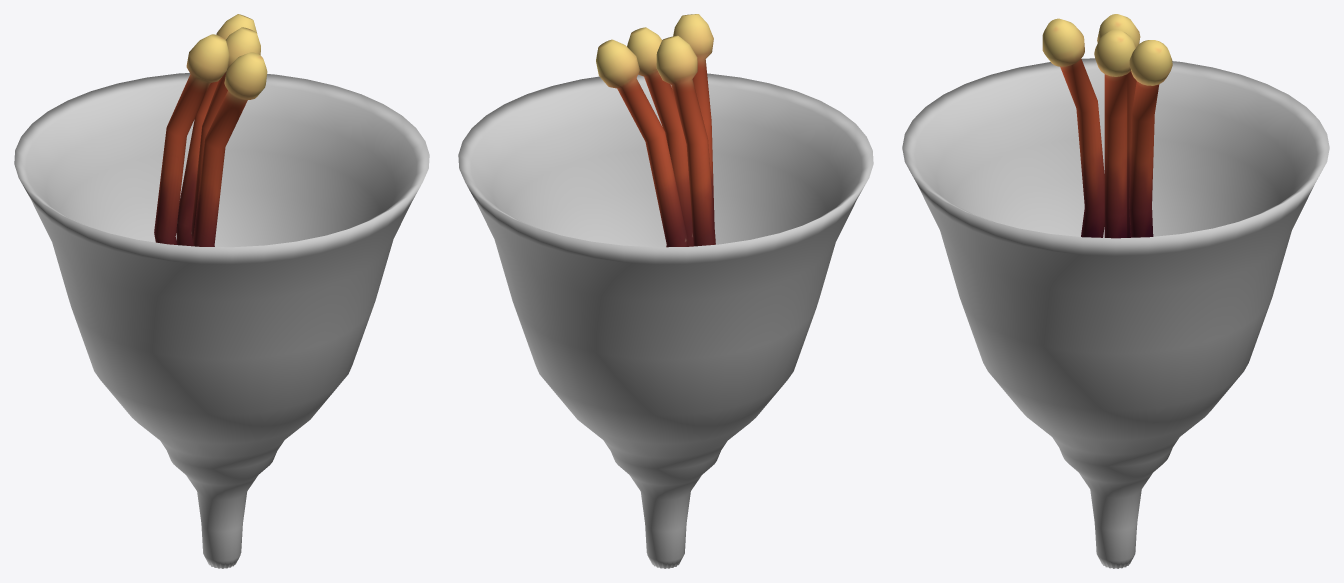
The model's file is Flower.fbx.
The picture shows the model from 3 angles, left to right: view 1: azimuth 30°, elevation 25°; view 2: azimuth 150°, elevation 25°; view 3: azimuth 270°, elevation 25°; orthographic projection. The views are drawn at different scales.
Parts seen in each view (by area): view 1: FlowerBod, FlowerStick3, FlowerStick2, FlowerStick4, FlowerStick1; view 2: FlowerBod, FlowerStick4, FlowerStick3, FlowerStick1, FlowerStick2; view 3: FlowerBod, FlowerStick2, FlowerStick1, FlowerStick4, FlowerStick3.
Boxes of the visible parts, box(x1,y1,x2,y2) form: FlowerBod: box(14, 73, 429, 568); FlowerStick3: box(154, 34, 229, 244); FlowerStick2: box(193, 52, 267, 246); FlowerStick4: box(176, 14, 257, 246); FlowerStick1: box(191, 27, 260, 245); FlowerBod: box(458, 73, 873, 568); FlowerStick4: box(596, 39, 687, 247); FlowerStick3: box(656, 35, 715, 246); FlowerStick1: box(627, 27, 693, 246); FlowerStick2: box(673, 14, 714, 224); FlowerBod: box(902, 58, 1329, 568); FlowerStick2: box(1042, 18, 1104, 237); FlowerStick1: box(1094, 29, 1135, 238); FlowerStick4: box(1129, 40, 1172, 237); FlowerStick3: box(1097, 14, 1140, 237).
Bounding box in the file's own units: 18.89 × 26.5 × 18.89.
